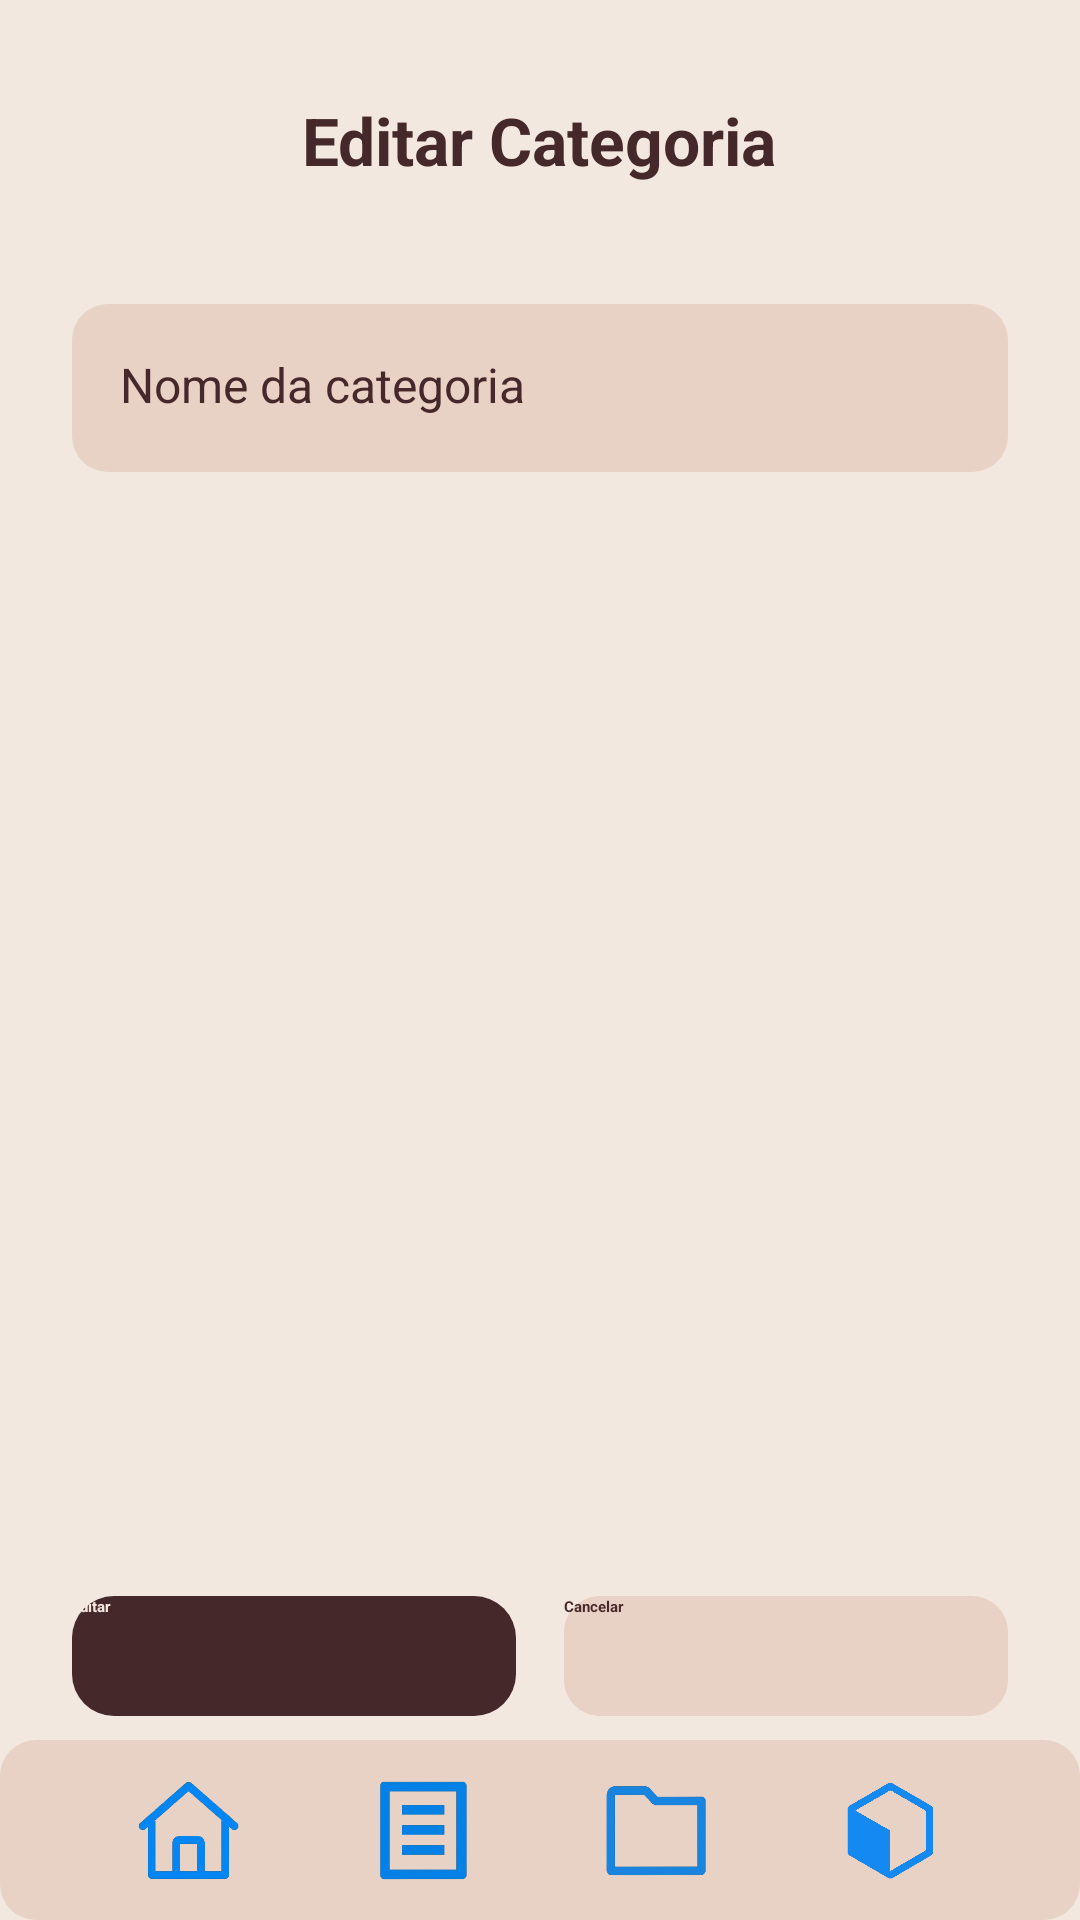

Locate icon controls on the screen. Image size 1080*1920, boxes as (x1, y1, x2, y2).
caixa: (847, 1783, 933, 1879)
home: (139, 1782, 239, 1879)
lista: (380, 1781, 467, 1879)
pasta: (606, 1786, 706, 1875)
